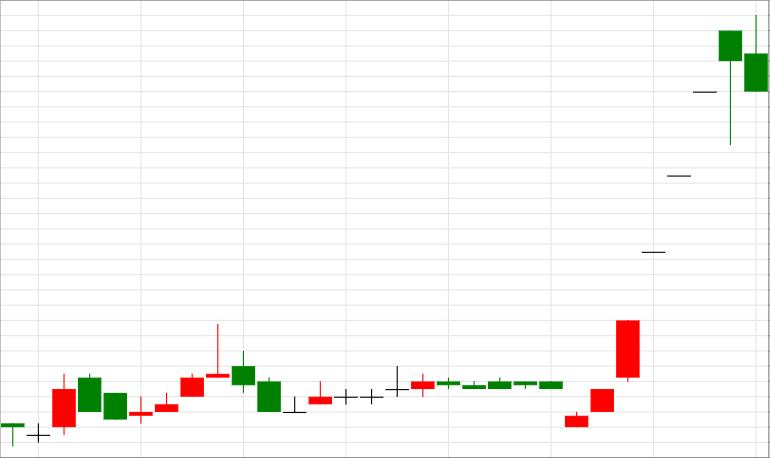hanging_man_fall: (565, 30, 742, 428)
